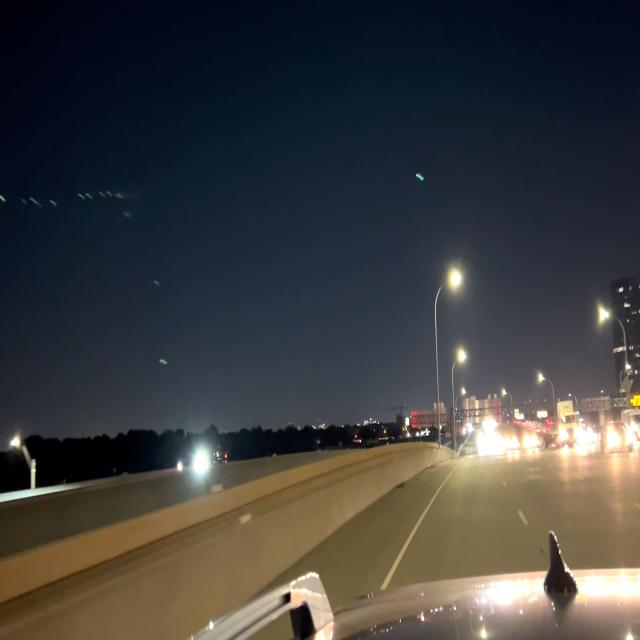back-of-sign: (411, 399, 448, 436), (461, 392, 502, 425), (581, 392, 612, 417)
